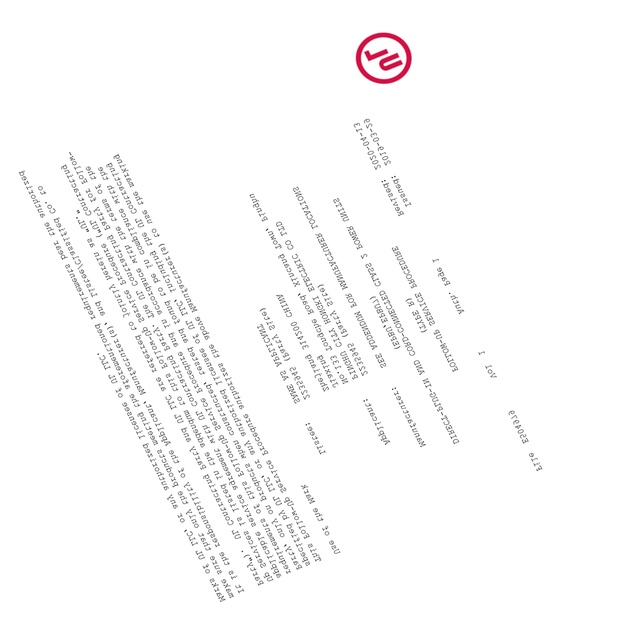ul: (354, 30, 413, 86)
